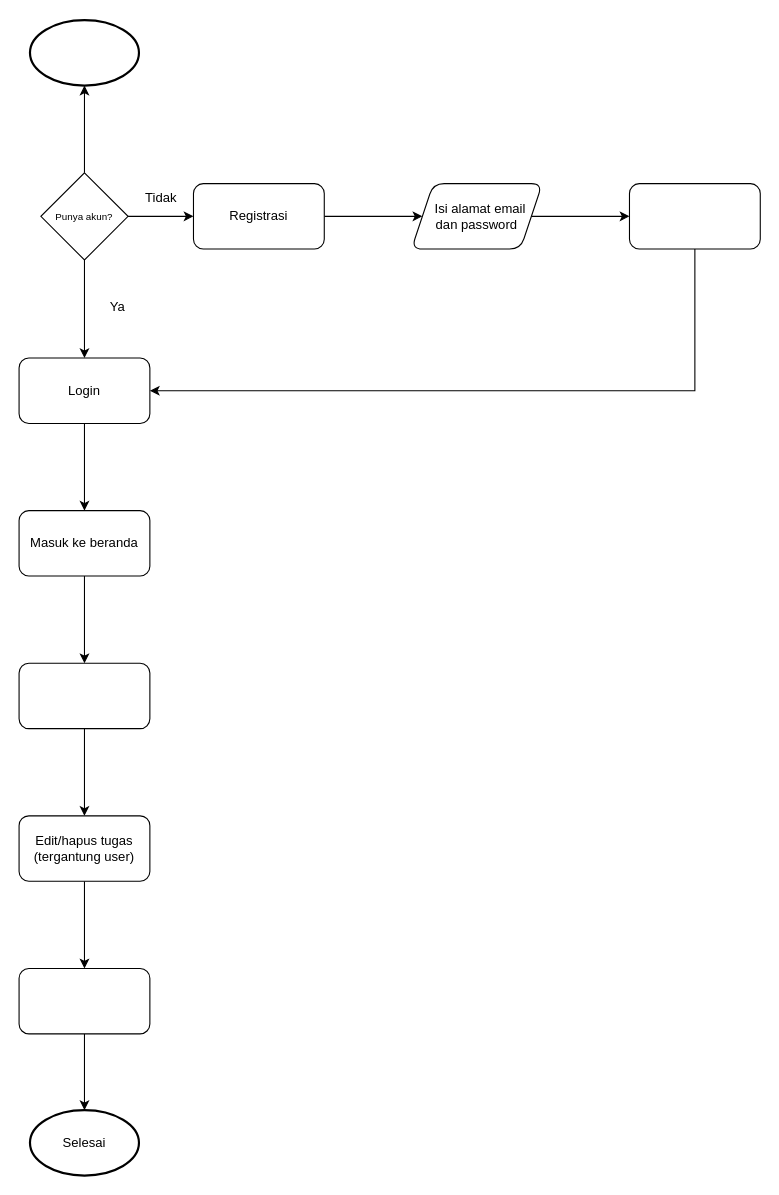
This 779x1195 diagram has some shape labels left out. The centre of each missing label's shape, as x and y in pixels:
"Buat tugas baru (tergantung user)" goes at (84,695).
"logout (tergantung user)" goes at (84,1000).
"Mulai" goes at (84,52).
"Verifikasi email" goes at (694,216).
